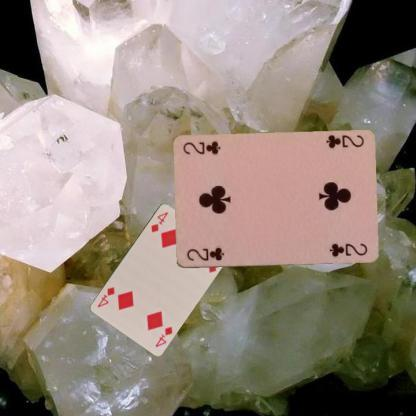2c: (323, 132, 365, 150), (184, 244, 224, 262)
4d: (147, 209, 170, 234), (152, 323, 174, 348)
